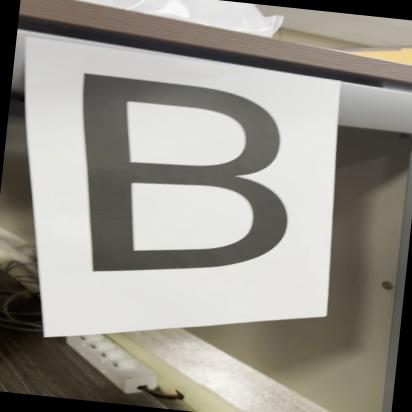seat: (54, 70, 278, 284)
